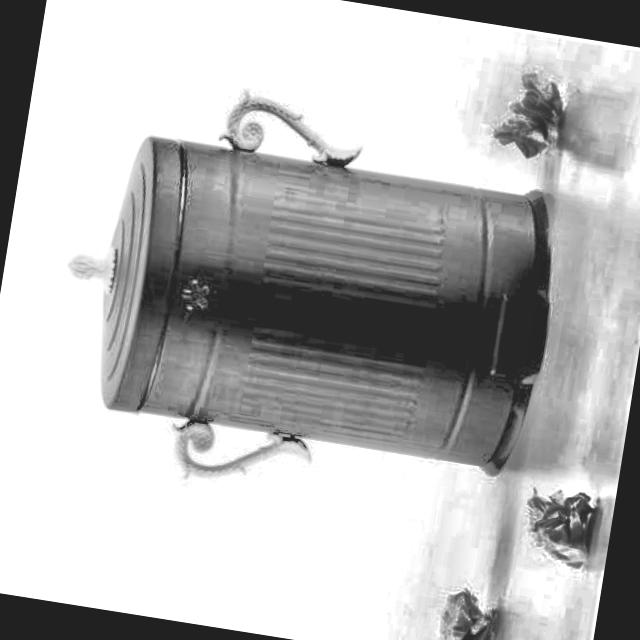Dustbin: (28, 60, 587, 542)
